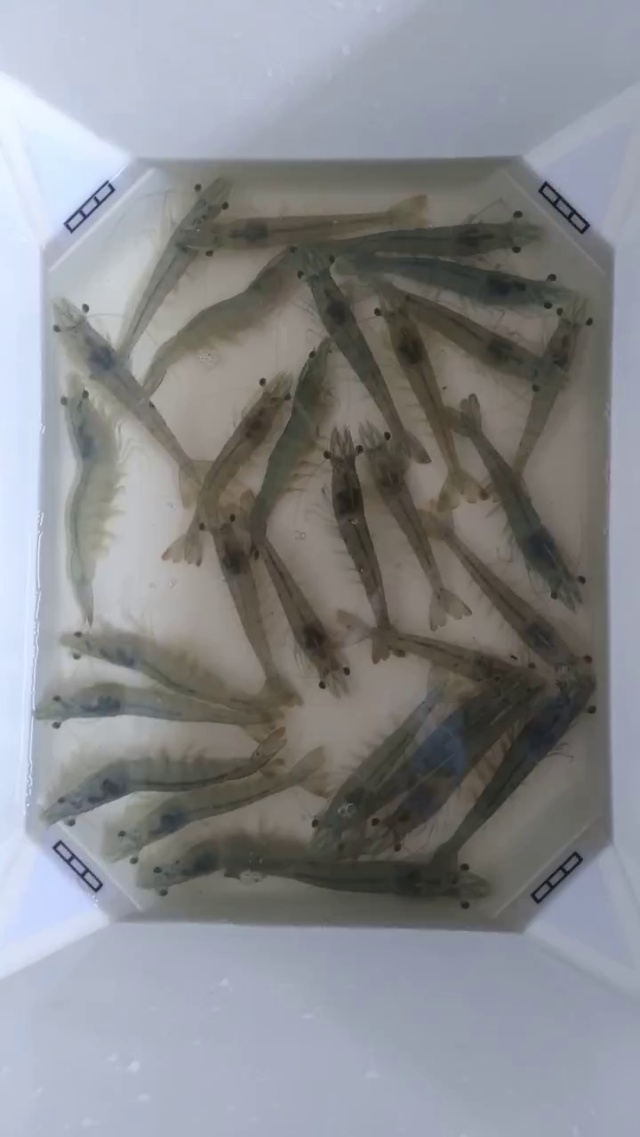shrimp: (544, 409, 639, 745), (557, 159, 639, 539), (0, 782, 123, 965), (42, 192, 139, 388), (441, 170, 570, 308), (337, 688, 451, 835), (0, 613, 77, 828), (584, 499, 639, 800), (85, 326, 192, 476), (134, 178, 230, 332), (162, 419, 251, 585), (138, 778, 247, 903), (259, 340, 333, 518), (292, 246, 380, 395), (233, 166, 331, 295), (37, 563, 117, 717), (331, 202, 436, 318), (344, 338, 429, 478), (0, 197, 45, 452), (419, 774, 500, 908), (375, 600, 497, 680), (282, 601, 371, 706), (290, 747, 370, 860), (426, 435, 479, 536)
